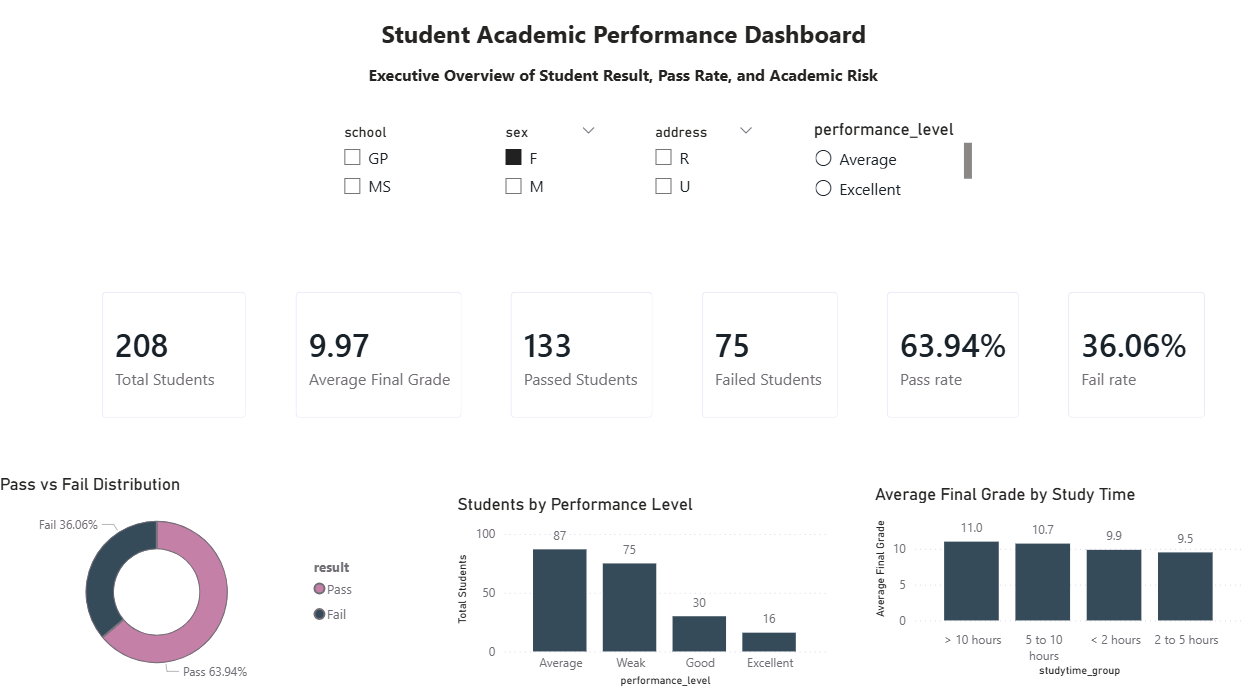

This screenshot's page, from the dashboard's own definition file:
{"tool":"powerbi","page":{"name":"Executive Overview","canvas":[1280,720],"ordinal":0},"visuals":[{"type":"cardVisual","fields":{"Data":["vw_student_analysis.Total Students"]},"box":[90,280,178.8,160],"z":0,"group":"g1"},{"type":"cardVisual","fields":{"Data":["vw_student_analysis.Average Final Grade"]},"box":[283.8,280,200,160],"z":1000,"group":"g1"},{"type":"cardVisual","fields":{"Data":["vw_student_analysis.Passed Student"]},"box":[498.8,280,176.2,160],"z":2000,"group":"g1"},{"type":"cardVisual","fields":{"Data":["vw_student_analysis.Failed Student"]},"box":[690,280,170,160],"z":3000,"group":"g1"},{"type":"cardVisual","fields":{"Data":["vw_student_analysis.Pass rate"]},"box":[875,280,166.2,160],"z":4000,"group":"g1"},{"type":"cardVisual","fields":{"Data":["vw_student_analysis.Fail rate"]},"box":[1056.2,280,171.2,160],"z":5000,"group":"g1"},{"type":"textbox","box":[214.7,0,827.6,82],"z":6000},{"type":"textbox","box":[161.7,63.9,933.8,35],"z":7000},{"type":"donutChart","title":"Pass vs Fail Distribution","fields":{"Category":["vw_student_analysis.result"],"Y":["vw_student_analysis.Total Students"]},"box":[0,478.8,378.8,217.5],"z":8000},{"type":"columnChart","title":"Students by Performance Level","fields":{"Category":["vw_student_analysis.performance_level"],"Y":["vw_student_analysis.Total Students"]},"box":[457.5,498.8,378.8,197.5],"z":9000},{"type":"columnChart","title":"Average Final Grade by Study Time","fields":{"Category":["vw_student_analysis.studytime_group"],"Y":["vw_student_analysis.Average Final Grade"]},"box":[875,488.8,378.8,197.5],"z":10000},{"type":"slicer","fields":{"Values":["vw_student_analysis.school"]},"box":[336.2,123.8,115,95],"z":11000},{"type":"slicer","fields":{"Values":["vw_student_analysis.sex"]},"box":[497.5,123.8,115,95],"z":12000},{"type":"slicer","fields":{"Values":["vw_student_analysis.address"]},"box":[647.5,123.8,122.5,95],"z":13000},{"type":"listSlicer","fields":{"Values":["vw_student_analysis.performance_level"]},"box":[813.8,123.8,168.8,95],"z":14000},{"type":"group","id":"g1","title":"Groupe 1","box":[90,280,1137.5,160],"z":14001}]}

Visuals, with their boxes in screenshot pixels (x1, y1, x2, y2), scaled from the page's 1280x720 canvas onto the 1255x700 screenshot:
cardVisual - vw_student_analysis.Total Students: box(88, 272, 264, 428)
cardVisual - vw_student_analysis.Average Final Grade: box(278, 272, 474, 428)
cardVisual - vw_student_analysis.Passed Student: box(489, 272, 662, 428)
cardVisual - vw_student_analysis.Failed Student: box(677, 272, 843, 428)
cardVisual - vw_student_analysis.Pass rate: box(858, 272, 1021, 428)
cardVisual - vw_student_analysis.Fail rate: box(1036, 272, 1203, 428)
textbox: box(211, 0, 1022, 80)
textbox: box(159, 62, 1074, 96)
"Pass vs Fail Distribution" donutChart: box(0, 466, 371, 677)
"Students by Performance Level" columnChart: box(449, 485, 820, 677)
"Average Final Grade by Study Time" columnChart: box(858, 475, 1229, 667)
slicer - vw_student_analysis.school: box(330, 120, 442, 213)
slicer - vw_student_analysis.sex: box(488, 120, 601, 213)
slicer - vw_student_analysis.address: box(635, 120, 755, 213)
listSlicer - vw_student_analysis.performance_level: box(798, 120, 963, 213)
"Groupe 1" group: box(88, 272, 1204, 428)
